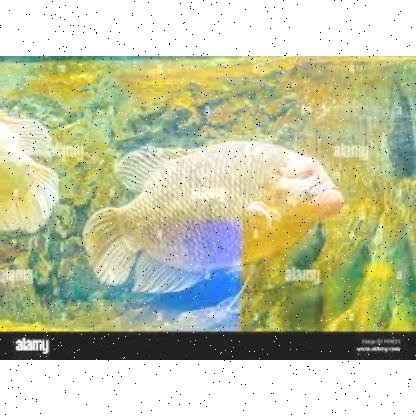gurame: (85, 140, 343, 294)
